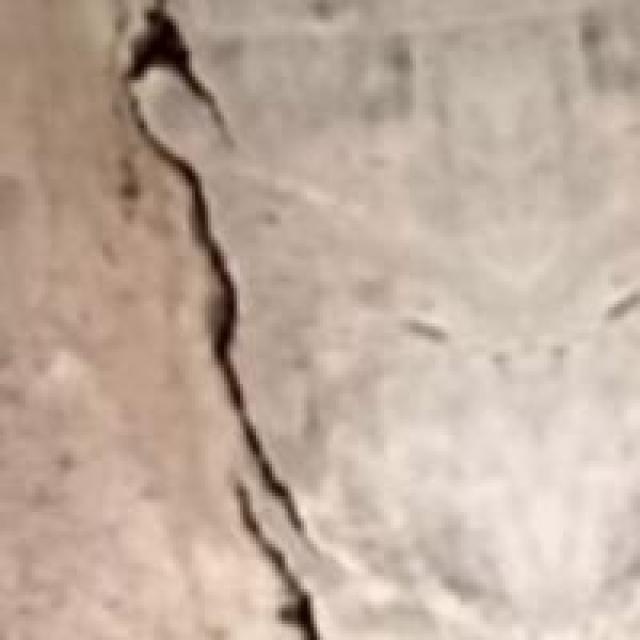crack: (99, 0, 352, 637)
